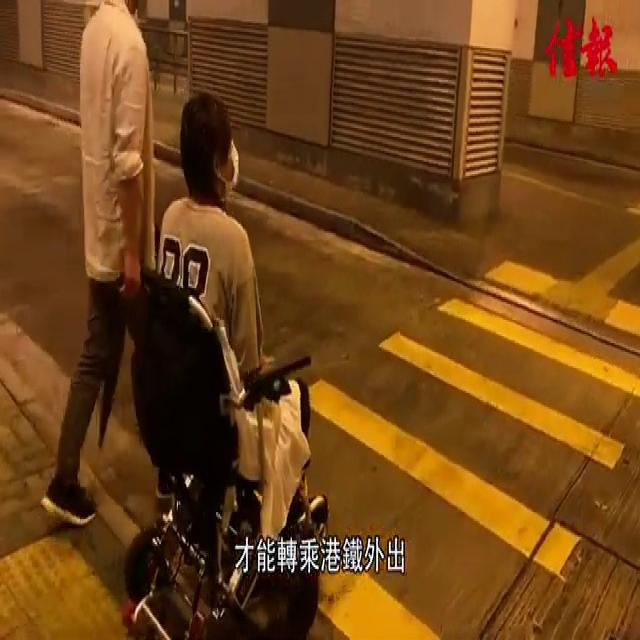wheelchairs: (115, 244, 338, 640)
